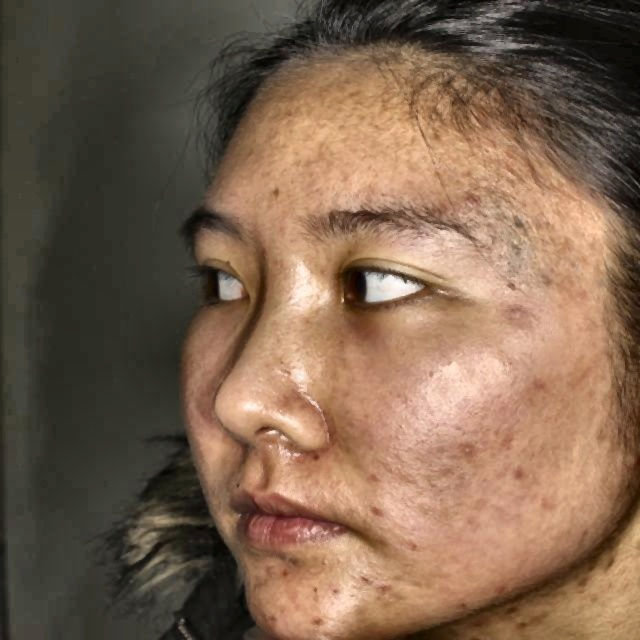comedone: (360, 573, 399, 597), (368, 499, 394, 519)
